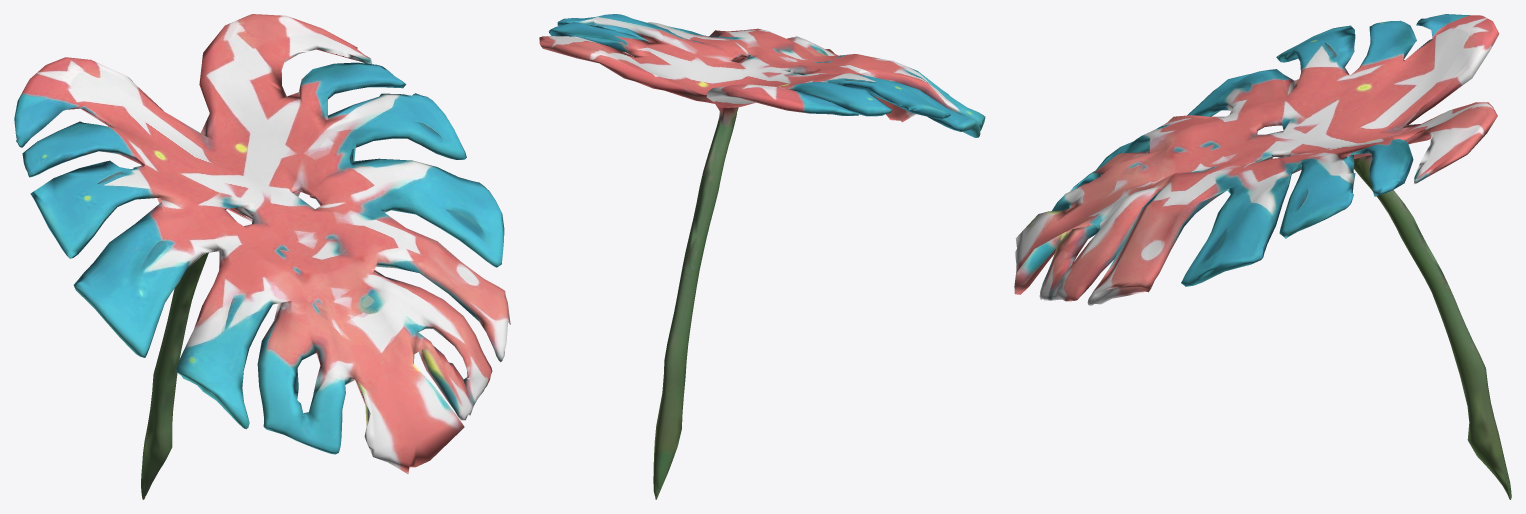
The model's file is mon_star_pinkmint_v1.glb.
3 renders of one model, left to right at view 1: azimuth 30°, elevation 25°; view 2: azimuth 150°, elevation 25°; view 3: azimuth 270°, elevation 25°, orthographic. The views are drawn at different scales.
Bounding box in the file's own units: 1.76 × 1.92 × 2.
1 material, 1 textured.
